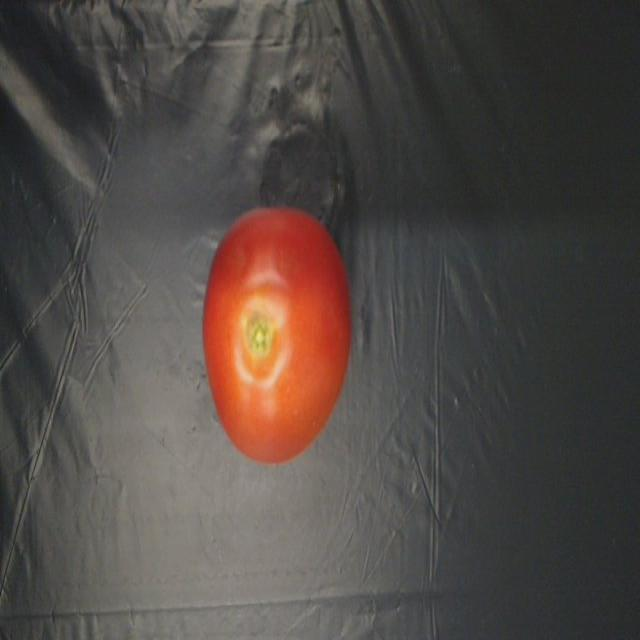sari: (186, 194, 387, 457)
